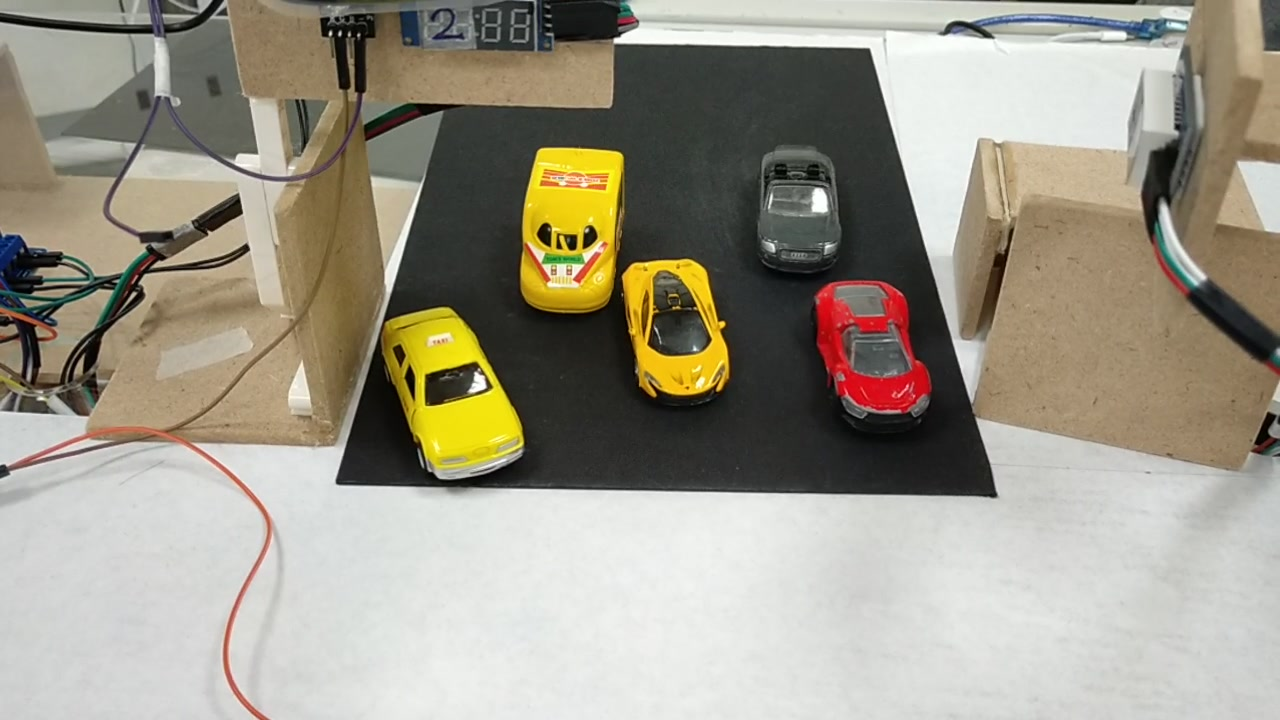car: (372, 314, 528, 478), (816, 278, 935, 425), (621, 264, 729, 400), (749, 146, 842, 270)
